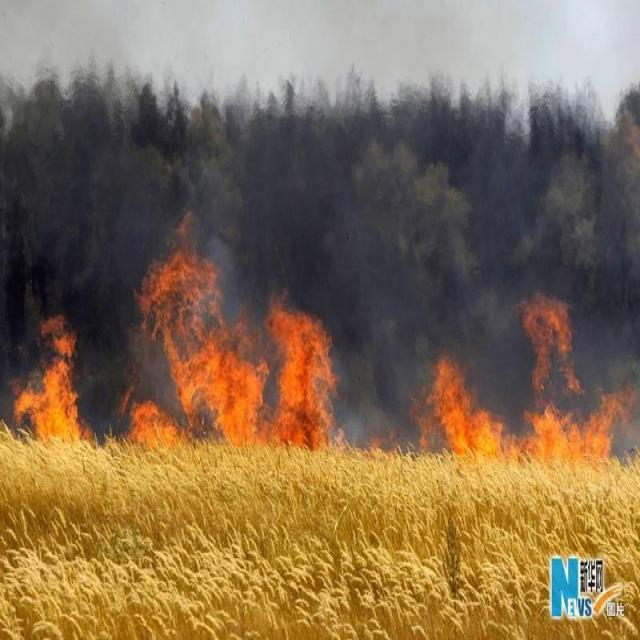Fire: (124, 244, 326, 462), (423, 318, 621, 482), (15, 306, 97, 465)
